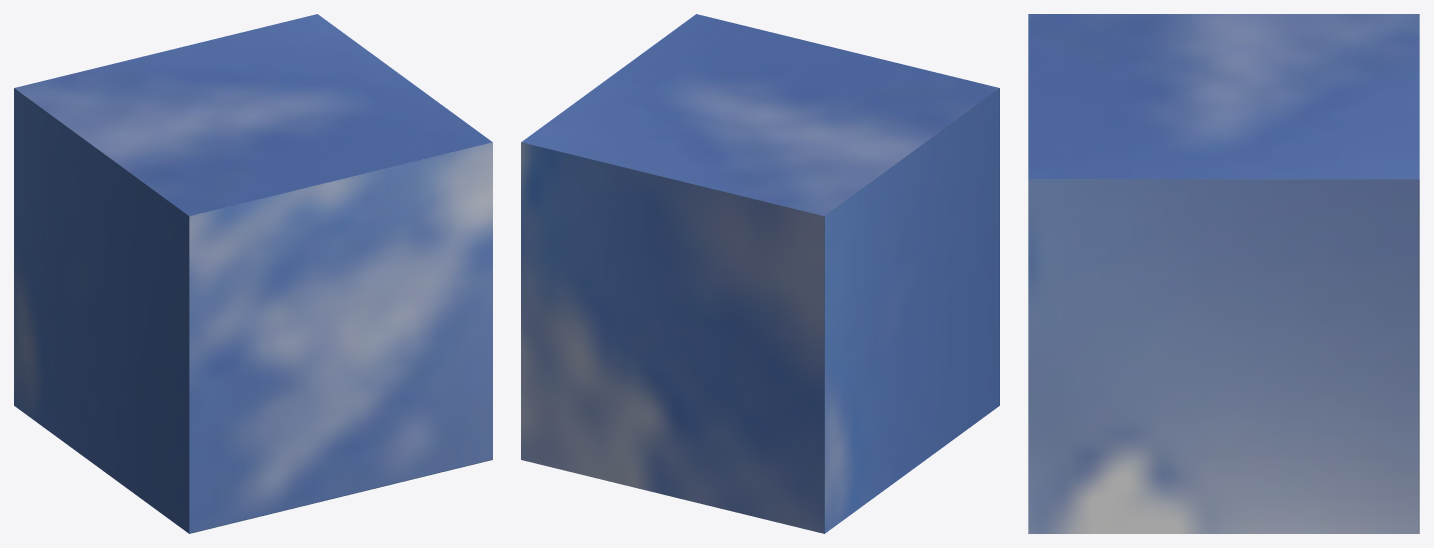
Rendered from SkyBox.obj.
3 views of the same model, side by side, from view 1: azimuth 30°, elevation 25°; view 2: azimuth 150°, elevation 25°; view 3: azimuth 270°, elevation 25° (orthographic). The views are drawn at different scales.
Visible parts, largest first — view 1: Front, Left, pCube42; view 2: Back, Left, pCube42; view 3: Right, pCube42.
Boxes of the visible parts, x1,y1,x2,y2 form: Front: (189, 142, 492, 533); Left: (14, 88, 189, 533); pCube42: (14, 14, 492, 216); Back: (521, 142, 824, 533); Left: (824, 88, 999, 533); pCube42: (521, 14, 999, 216); Right: (1028, 179, 1419, 533); pCube42: (1028, 14, 1419, 179).
Size of the model in its own units: 80030 by 80015 by 80030.
5 materials, 5 textured.
